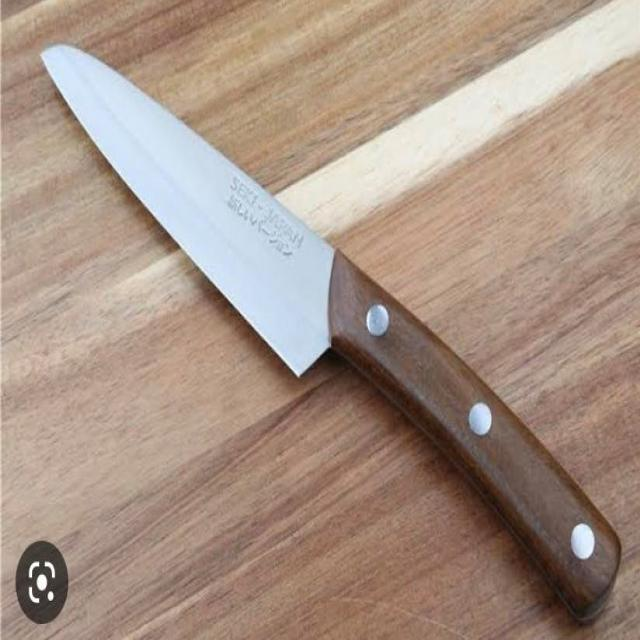Knife: (41, 44, 624, 630)
